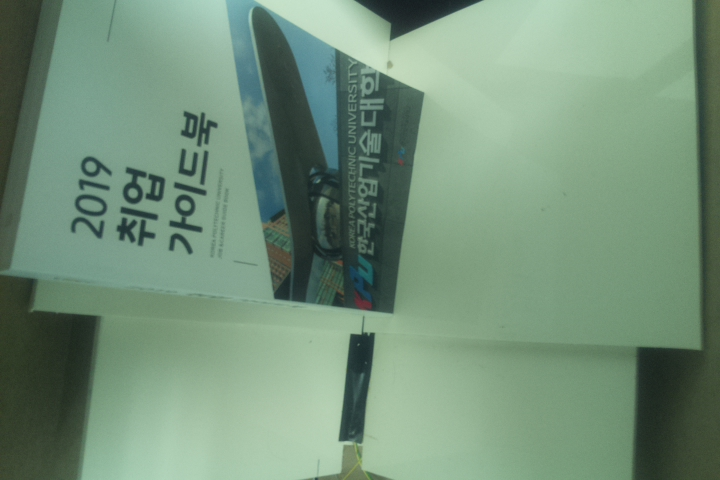book: (1, 1, 427, 322)
